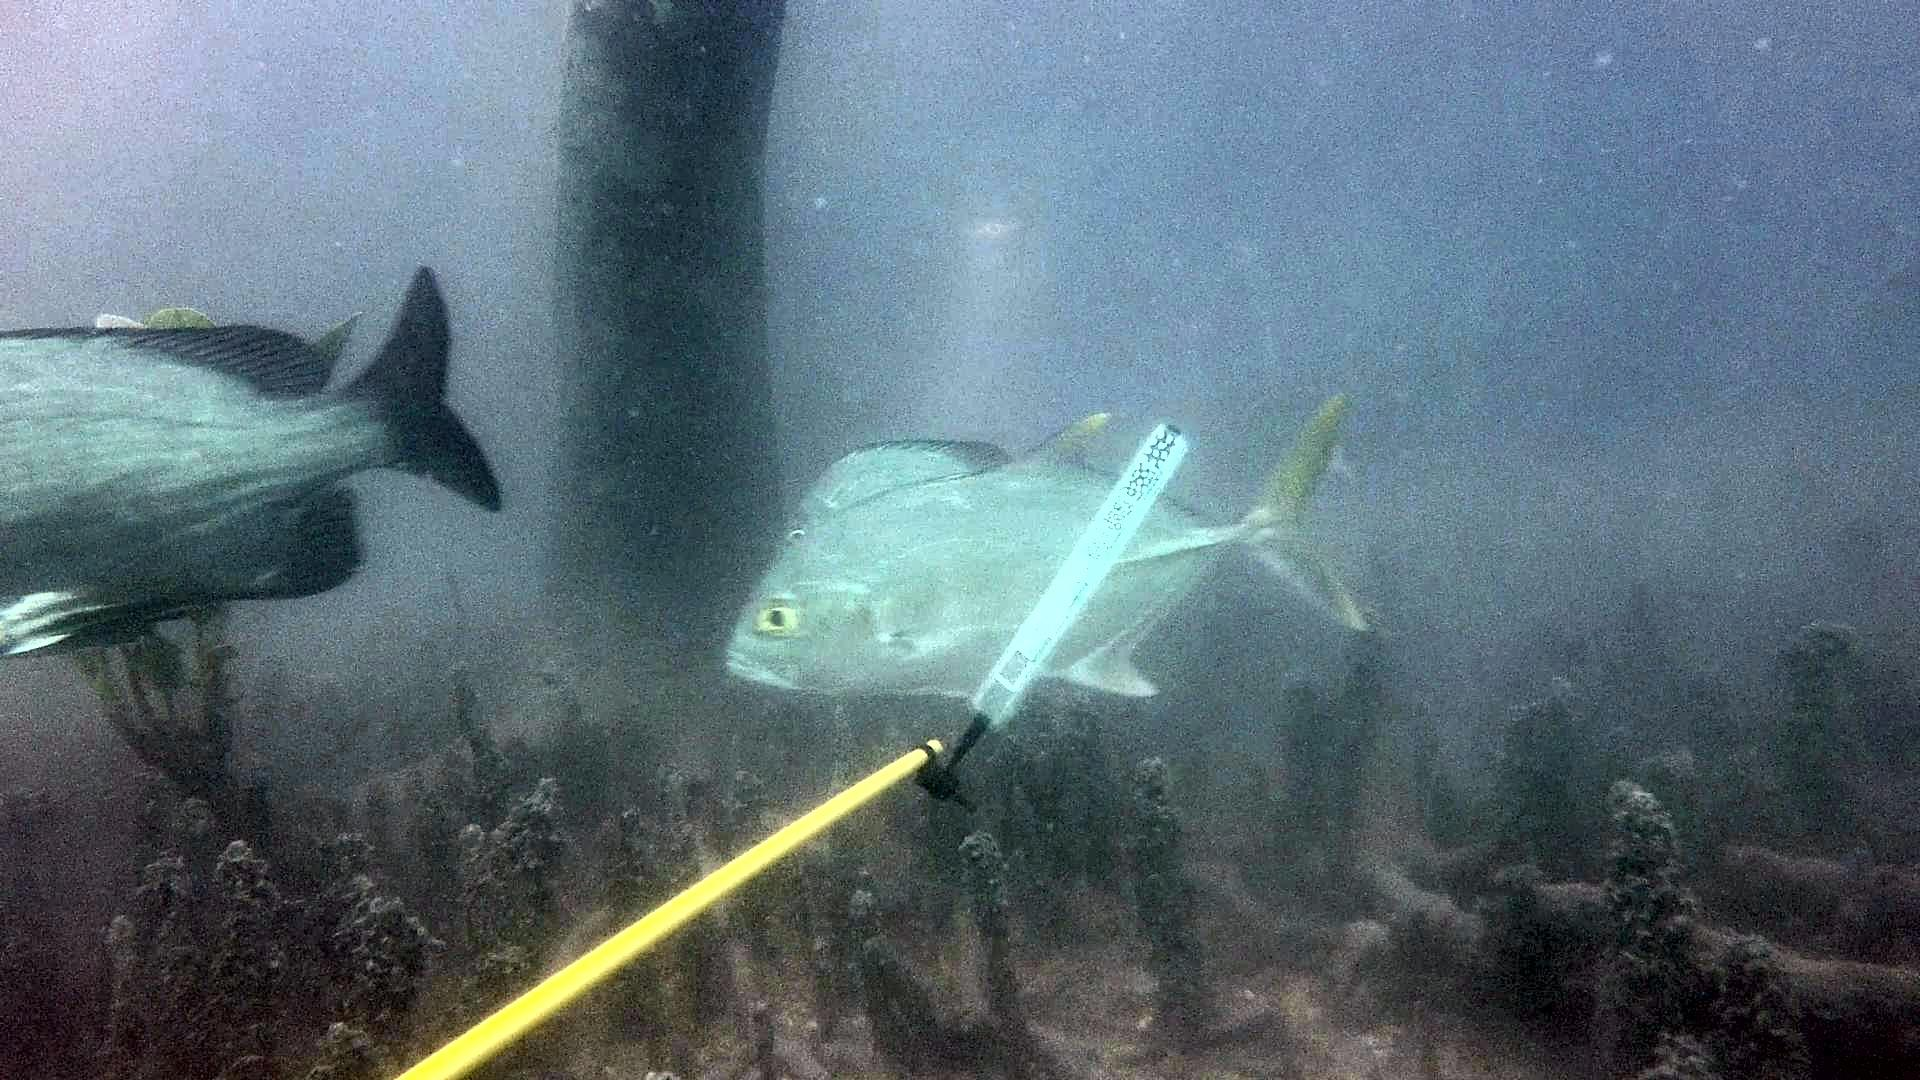acanthopagrus palmaris: (0, 244, 518, 668)
caranx: (713, 376, 1383, 719)
